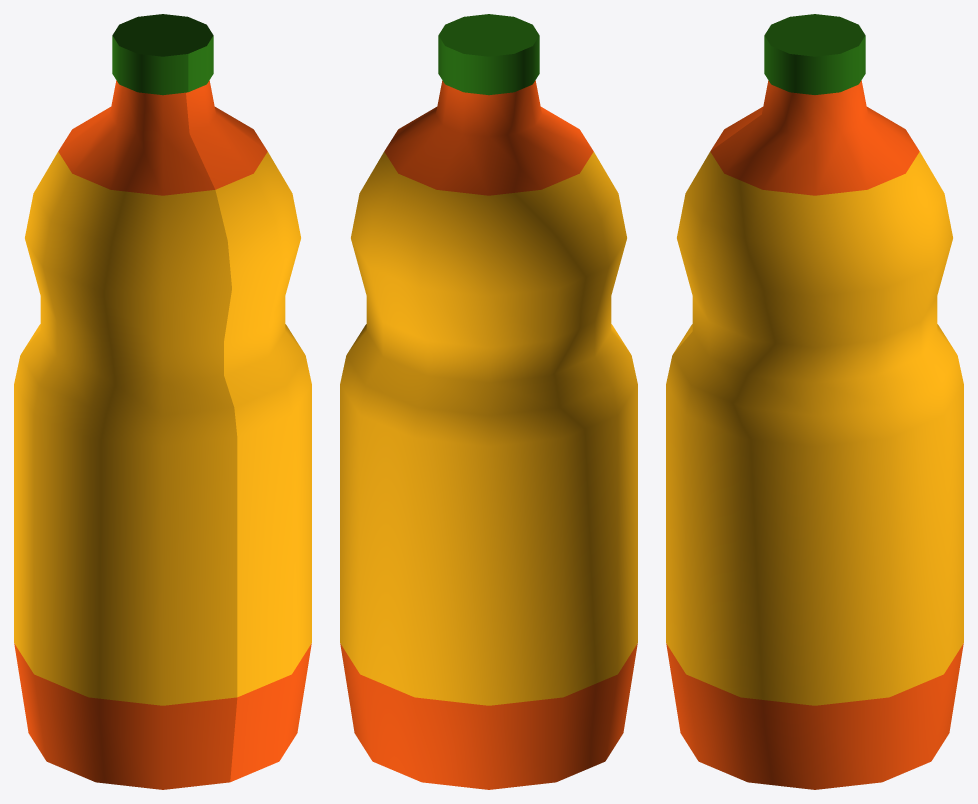
Rendered from Fruit Juice.fbx.
3 views of the same model, side by side, from view 1: azimuth 30°, elevation 25°; view 2: azimuth 150°, elevation 25°; view 3: azimuth 270°, elevation 25° (orthographic).
Parts seen in each view (by area): view 1: Node 0; view 2: Node 0; view 3: Node 0.
Boxes of the visible parts, x1,y1,x2,y2 form: Node 0: (14, 14, 311, 789); Node 0: (340, 14, 637, 789); Node 0: (666, 14, 963, 789).
Bounding box in the file's own units: 0.0701 × 0.1812 × 0.0701.
